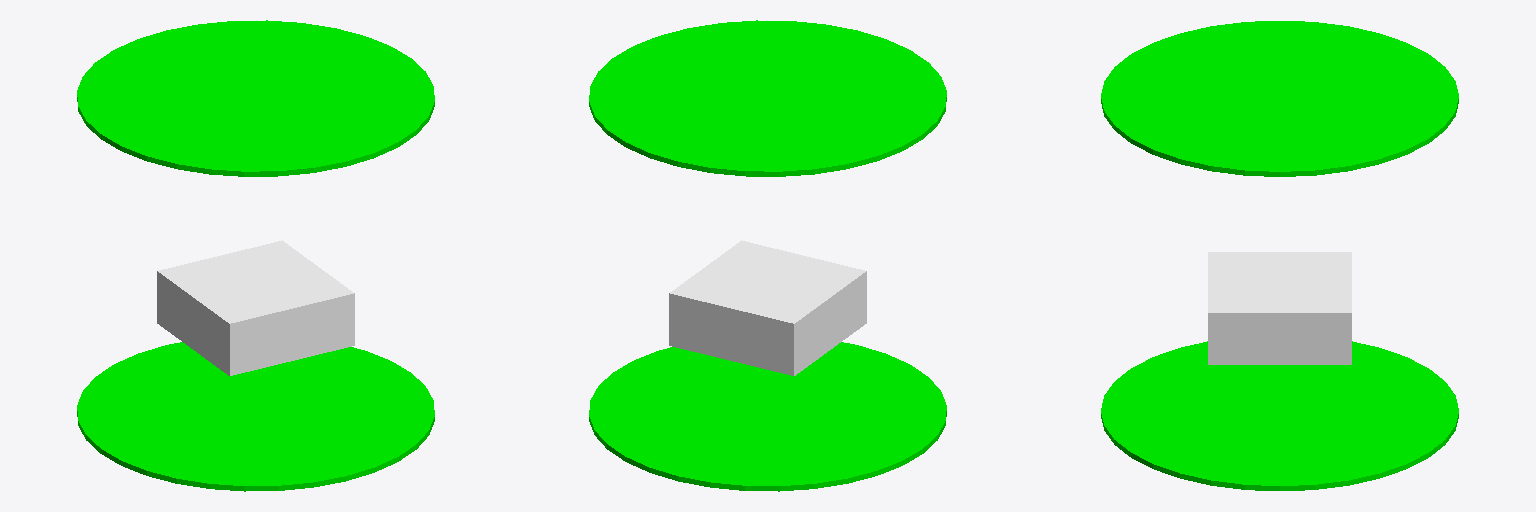
The robot description file, URDF, robot "coaxial_birotor":
<?xml version="1.0"?>
<robot name="coaxial_birotor">

  <configuration type="coaxial_birotor"/>

  <properties arm="0.0635" kf="2.0e-8" km="2.74e-10" thrust2weight="2" max_speed_kmh="30" gnd_eff_coeff="11.36859" prop_radius="3.31348e-2" drag_coeff_xy="9.1785e-7" drag_coeff_z="10.311e-7" dw_coeff_1="2267.18" dw_coeff_2=".16" dw_coeff_3="-.11"/>

  <control>
    <indi actuator_nr="4" output_nr="4" />
    <indi_1 roll="   0.0   0.0   10.    0." />
    <indi_2 pitch="  0.0   0.0    0.   10." />
    <indi_3 yaw="   -7.0   7.0    0.    0." />
    <indi_4 thrust=" 1.7   1.7    0.    0." />

    <indi_guidance_gains>
      <pos kp="1.0" kd="2.2"/>
    </indi_guidance_gains>
    
    <indi_att_gains>
      <att  p="7."  q="7."  r="5."  />
      <rate p="18." q="18." r="10." />
    </indi_att_gains>

    <pwm>
      <pwm2rpm scale="20000. 20000. 0. 0." const="0. 0. 0. 0." />
      <limit min="0  0  -1  -1" max="1  1  1  1" />
    </pwm>
  </control>

<link name="mainbody">
    <visual>
      <geometry>
        <box size="0.05 0.05 0.02"/> 
      </geometry>
      <origin rpy="0 0 0" xyz="0.0 0.0 0.0"/>
      <material name="white">
        <color rgba="1 1 1 1"/>
      </material>
    </visual>
    <inertial>
    <origin xyz="0.0 0.0 0.0"/>
      <mass value="0.15"/>
      <inertia ixx="6.2e-4" ixy="0.0" ixz="0.0" iyy="6.2e-4" iyz="0.0" izz="1.1e-3"/>
    </inertial>
    <collision>
      <geometry>
        <box size="0.04 0.04 0.02"/> 
      </geometry>
      <origin rpy="0 0 0" xyz="0.0 0.0 0.0"/>
    </collision>
  </link>

<link name="propUp">
    <visual>
      <geometry>
        <cylinder radius=".062" length=".002"/>
        <origin rpy="0 0 0" xyz="0.0 0.0 0.0"/>
      </geometry>
      <material name="green">
        <color rgba="0 1 0 0.4"/>
      </material>
    </visual>
    <inertial>
    <origin xyz="0.0 0.0 0.001"/>
      <mass value="0.003"/>
      <inertia ixx="0.0" ixy="0.0" ixz="0.0" iyy="0.0" iyz="0.0" izz="0.0"/>
    </inertial>
     <collision>
      <geometry>
        <cylinder radius=".062" length=".002"/>
      </geometry>
      <origin rpy="0 0 0" xyz="0.0 0.0 0.001"/>
    </collision>
  </link>

<link name="propDown">
    <visual>
      <geometry>
        <cylinder radius=".062" length=".002"/>
        <origin rpy="0 0 0" xyz="0.0 0.0 0.0"/>
      </geometry>
      <material name="green">
        <color rgba="0 1 0 0.4"/>
      </material>
    </visual>
    <inertial>
    <origin xyz="0.0 0.0 0.001"/>
      <mass value="0.003"/>
      <inertia ixx="0.0" ixy="0.0" ixz="0.0" iyy="0.0" iyz="0.0" izz="0.0"/>
    </inertial>
     <collision>
      <geometry>
        <cylinder radius=".062" length=".002"/>
      </geometry>
      <origin rpy="0 0 0" xyz="0.0 0.0 0.001"/>
    </collision>
  </link>

<link name="motorUp">
    <visual>
      <geometry>
        <cylinder radius=".012" length=".02"/> 
      </geometry>
      <origin rpy="0 0 0" xyz="0.0 0.0 0.0"/>
      <material name="white">
        <color rgba="1 1 1 1"/>
      </material>
    </visual>
    <inertial>
    <origin xyz="0.0 0.0 0.0"/>
      <mass value="0.03"/>
      <inertia ixx="0.0" ixy="0.0" ixz="0.0" iyy="0.0" iyz="0.0" izz="0.0"/>
    </inertial>
     <collision>
      <geometry>
        <box size="0.02 0.02 0.02"/> 
      </geometry>
      <origin rpy="0 0 0" xyz="0.0 0.0 0.0"/>
    </collision>
  </link>

<link name="motorUp_base">
    <visual>
      <geometry>
        <cylinder radius=".015" length=".003"/> 
      </geometry>
      <origin rpy="0 0 0" xyz="0.0 0.0 0.0"/>
      <material name="dark grey">
        <color rgba="0.4 0.4 0.4 1.0"/>
      </material>
    </visual>
    <inertial>
    <origin xyz="0.0 0.0 0.0"/>
      <mass value="0.03"/>
      <inertia ixx="0.0" ixy="0.0" ixz="0.0" iyy="0.0" iyz="0.0" izz="0.0"/>
    </inertial>
     <collision>
      <geometry>
        <box size="0.08 0.02 0.02"/> 
      </geometry>
      <origin rpy="0 0 0" xyz="0.0 0.0 0.0"/>
    </collision>
  </link>

  <joint name="body_to_motorUp_X" type="revolute">
    <axis xyz="1 0 0"/>
    <origin rpy="0 0 0" xyz="0.0 0.0 0.06"/>
    <parent link="mainbody"/>
    <child link="motorUp_base"/>
    <limit effort="1" velocity="0.5"/>
    <joint_properties damping="0.0" friction="0.0"/>
  </joint>

  <joint name="body_to_motorUp_Y" type="revolute">
    <axis xyz="0 1 0"/>
    <origin rpy="0 0 0" xyz="0.0 0.0 0.01"/>
    <parent link="motorUp_base"/>
    <child link="motorUp"/>
    <limit effort="1" velocity="0.5"/>
    <joint_properties damping="0.0" friction="0.0"/>
  </joint>

  <joint name="motorUp_to_propUp" type="fixed">
    <origin rpy="0 0 0" xyz="0.0 0.0 0.01"/>
    <parent link="motorUp"/>
    <child link="propUp"/>
  </joint>

  <joint name="motorUp_to_propDown" type="fixed">
    <origin rpy="0 0 0" xyz="0.0 0.0 -0.04"/>
    <parent link="mainbody"/>
    <child link="propDown"/>
  </joint>


</robot>

--- Render facts (derived) ---
The picture shows the robot from 3 angles, left to right: view 1: azimuth 30°, elevation 25°; view 2: azimuth 150°, elevation 25°; view 3: azimuth 270°, elevation 25°; orthographic projection.
Model coaxial_birotor with 5 links and 4 joints (2 revolute, 2 fixed), rooted at mainbody, posed every joint at zero.
Links seen in each view (by area): view 1: propUp, propDown, mainbody; view 2: propUp, propDown, mainbody; view 3: propUp, propDown, mainbody.
Link boxes in pixels (x1=…): propUp: x1=77, y1=20, x2=434, y2=176; propDown: x1=77, y1=342, x2=434, y2=491; mainbody: x1=157, y1=240, x2=354, y2=375; propUp: x1=589, y1=20, x2=946, y2=176; propDown: x1=589, y1=342, x2=946, y2=491; mainbody: x1=669, y1=240, x2=866, y2=375; propUp: x1=1101, y1=21, x2=1458, y2=176; propDown: x1=1101, y1=341, x2=1458, y2=490; mainbody: x1=1208, y1=252, x2=1351, y2=364.
Size in the robot's own frame: 0.124 by 0.124 by 0.122 metres.
Geometry: primitives only (box / cylinder / sphere), no mesh files.
